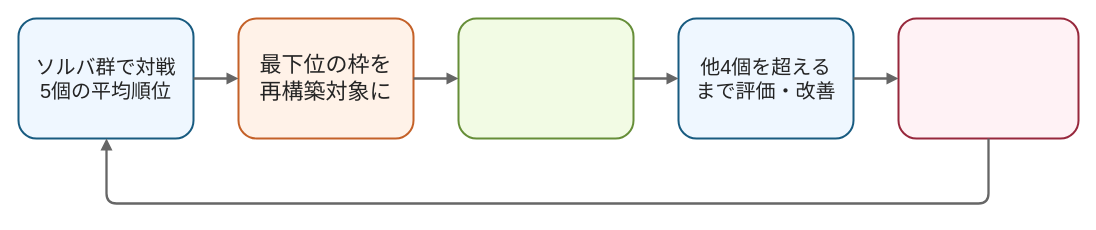
Image size: 1096x230. Some labels were removed from this diagram. Here are the shapes that lost their labels. From the top down, the centre of each, then its label:
the point at 545,78: 新しい開発者 ゼロから構築
the point at 988,78: 単独首位の候補を ソルバ群に採用
